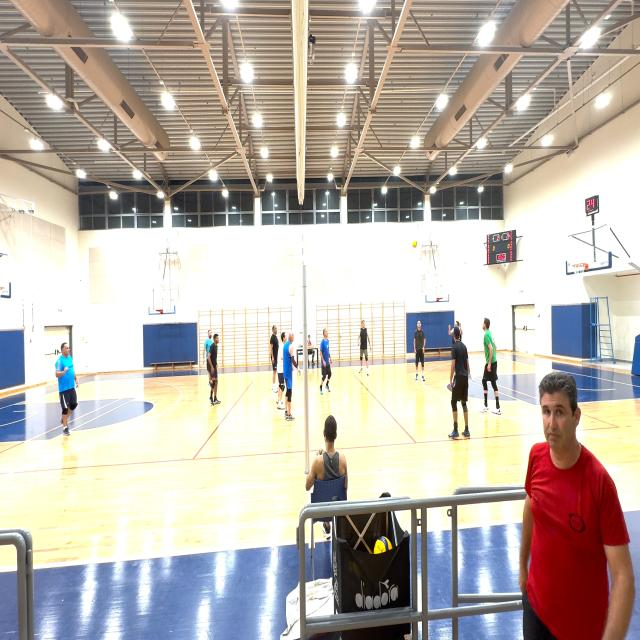volleyball: (373, 536, 392, 555), (412, 240, 418, 248)
